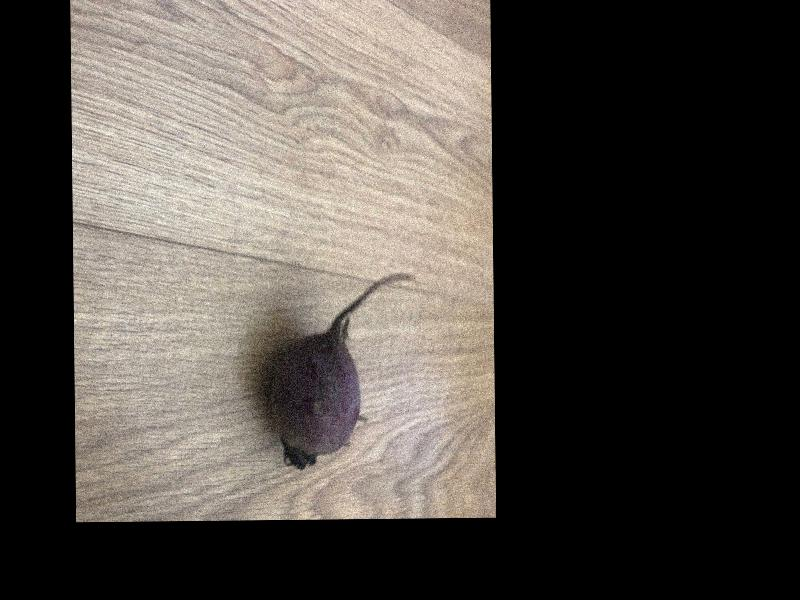Beet: (268, 269, 417, 466)
